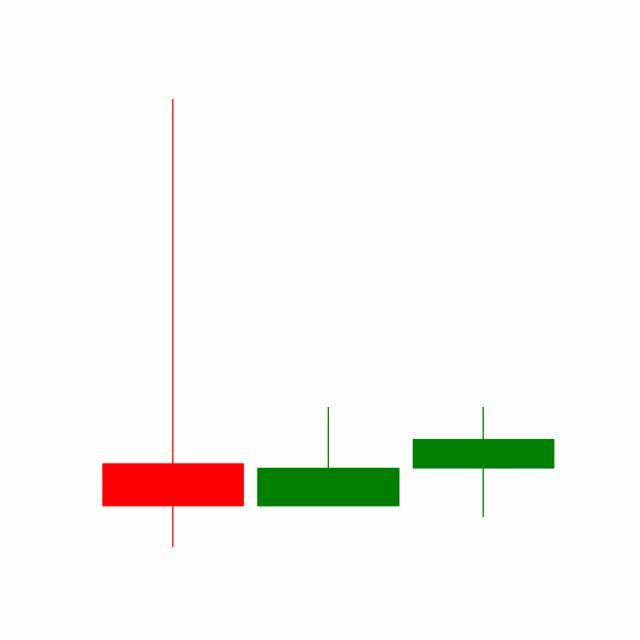Hanging Man: (406, 405, 562, 519)
